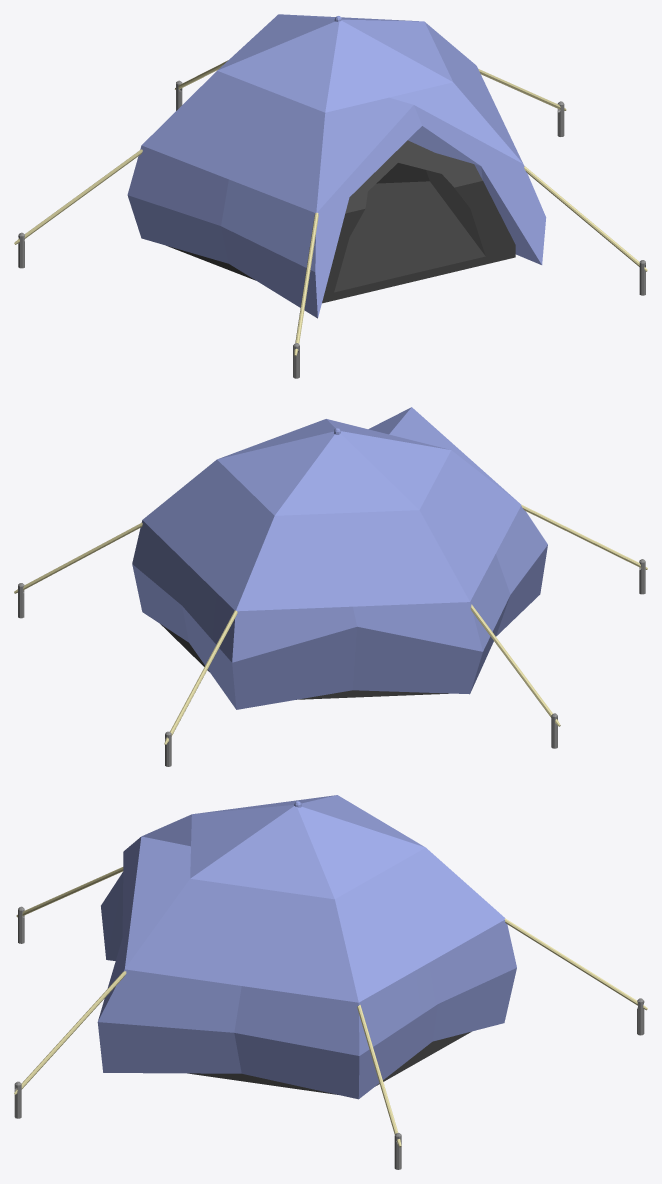
Rendered from Tent.fbx.
The picture shows the model from 3 angles, top to bottom: view 1: azimuth 30°, elevation 25°; view 2: azimuth 150°, elevation 25°; view 3: azimuth 270°, elevation 25°; orthographic projection. The views are drawn at different scales.
Parts seen in each view (by area): view 1: OuterTent, InnerTent, Ropes, Hooks; view 2: OuterTent, Ropes, InnerTent, Hooks; view 3: OuterTent, Ropes, InnerTent, Hooks.
Boxes of the visible parts, x1,y1,x2,y2 form: OuterTent: (127,14,546,318); InnerTent: (166,140,515,303); Ropes: (14,60,647,356); Hooks: (18,80,645,378); OuterTent: (132,407,547,709); Ropes: (14,504,647,744); InnerTent: (160,624,448,699); Hooks: (18,559,645,766); OuterTent: (97,795,516,1099); Ropes: (14,867,647,1147); InnerTent: (187,1031,471,1094); Hooks: (14,906,644,1169).
Bounding box in the file's own units: 193 × 73.92 × 185.
